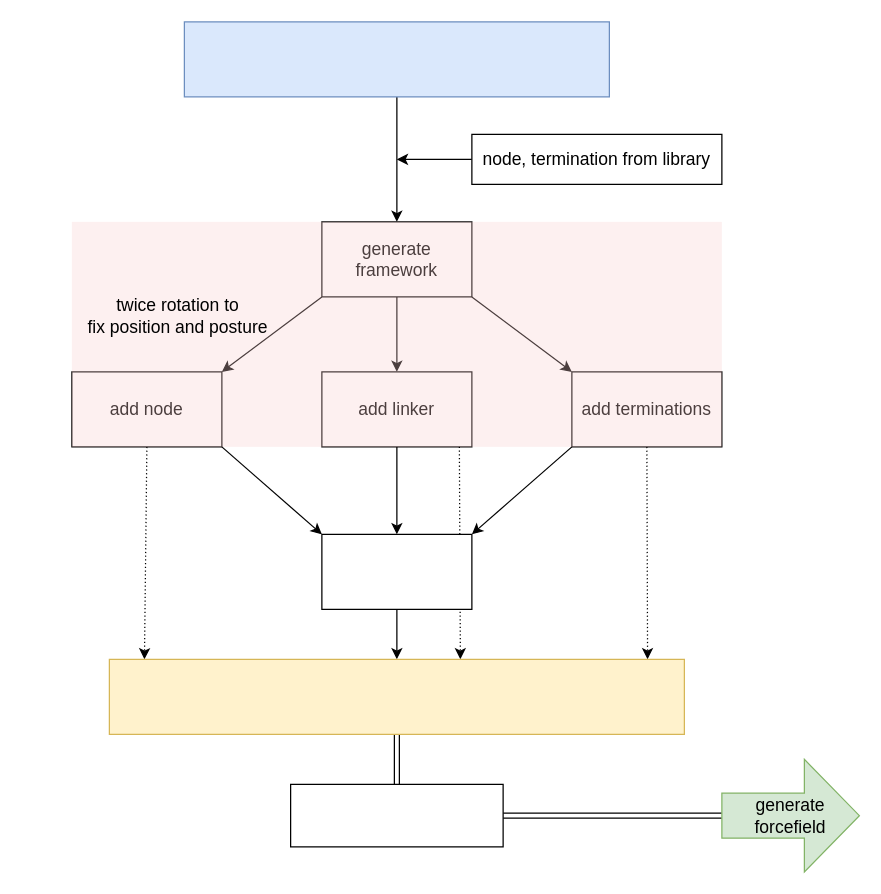
This 881x894 diagram has some shape labels left out. Here are the shapes that lost their labels. From the top down, the box of each, then its label:
(183, 21, 609, 97): units numbers, unit edge length, and linker.pdb with O1 O2 O3 index
(321, 533, 472, 609): merge and save MOF
(108, 658, 684, 734): output *xyz *gro *pdb
(289, 783, 503, 847): seperated residues coordinate ( can be *.xyz)
